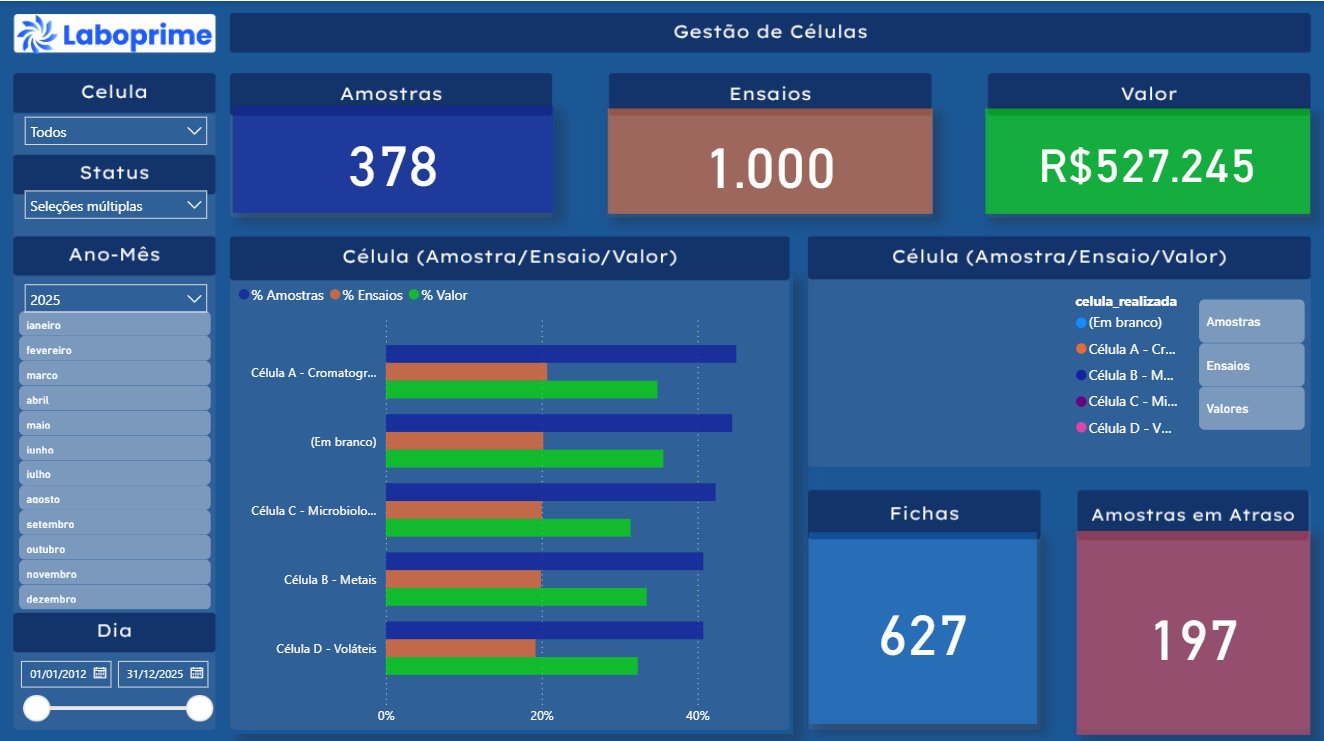

What the dashboard file says about the page in this screenshot:
{"tool":"powerbi","page":{"name":"Gestão Celulas","canvas":[1280,720],"ordinal":4},"visuals":[{"type":"slicer","fields":{"Values":["vw_bi_tecnico_operacional.status_amostra_macro"]},"box":[13.9,172.9,196.6,44.6],"z":0},{"type":"slicer","fields":{"Values":["dCalendario.Ano"]},"box":[13.9,263.5,196.6,44.6],"z":1000},{"type":"slicer","fields":{"Values":["vw_bi_tecnico_operacional.celula_realizada_nome"]},"box":[14.5,101.3,196.6,44.6],"z":3000},{"type":"card","fields":{"Values":["_Medidas.Total Amostras Recebidas"]},"box":[226.1,101.9,309.9,103.1],"z":4000},{"type":"card","fields":{"Values":["_Medidas.Qtd Total de Ensaios"]},"box":[587,103.2,313.7,101.8],"z":5000},{"type":"card","fields":{"Values":["_Medidas.Valor Total Amostras Recebidas (Funil)"]},"box":[952.3,103.2,313.7,101.8],"z":6000},{"type":"clusteredBarChart","fields":{"Category":["vw_bi_tecnico_operacional.celula_realizada_nome"],"Y":["_Medidas.% Amostras por Célula","_Medidas.% Ensaios por Célula","_Medidas.% Valor por Célula"]},"box":[225.9,263.5,541,444.8],"z":7000},{"type":"card","fields":{"Values":["_Medidas.Qtd Fichas (Filtrado)"]},"box":[781.5,512.3,220,184.6],"z":8000},{"type":"donutChart","fields":{"Category":["vw_bi_tecnico_operacional.celula_realizada_nome"],"Y":["_Medidas.Metrica Dinamica Rosca"]},"box":[782.2,263.5,370.9,177.1],"z":9000},{"type":"advancedSlicerVisual","fields":{"Values":["SeletorDeMetrica.Metricas"]},"box":[1152.9,263.5,112.9,177.6],"z":10000},{"type":"card","fields":{"Values":["_Medidas.Qtd Amostras em Atraso"]},"box":[1040.2,511.7,225.9,196.6],"z":11000},{"type":"slicer","fields":{"Values":["dCalendario.Date"]},"box":[13.7,632.1,196.8,71.6],"z":12000},{"type":"advancedSlicerVisual","fields":{"Values":["dCalendario.Mes"]},"box":[14.5,294.4,195,300],"z":12001}]}

Visuals, with their boxes in screenshot pixels (x1, y1, x2, y2), scaled from the page's 1280x720 canvas onto the 1324x741 screenshot:
slicer - vw_bi_tecnico_operacional.status_amostra_macro: <box>14,178,218,224</box>
slicer - dCalendario.Ano: <box>14,271,218,317</box>
slicer - vw_bi_tecnico_operacional.celula_realizada_nome: <box>15,104,218,150</box>
card - _Medidas.Total Amostras Recebidas: <box>234,105,554,211</box>
card - _Medidas.Qtd Total de Ensaios: <box>607,106,932,211</box>
card - _Medidas.Valor Total Amostras Recebidas (Funil): <box>985,106,1310,211</box>
clusteredBarChart - vw_bi_tecnico_operacional.celula_realizada_nome x _Medidas.% Amostras por Célula: <box>234,271,793,729</box>
card - _Medidas.Qtd Fichas (Filtrado): <box>808,527,1036,717</box>
donutChart - vw_bi_tecnico_operacional.celula_realizada_nome x _Medidas.Metrica Dinamica Rosca: <box>809,271,1193,453</box>
advancedSlicerVisual - SeletorDeMetrica.Metricas: <box>1193,271,1309,454</box>
card - _Medidas.Qtd Amostras em Atraso: <box>1076,527,1310,729</box>
slicer - dCalendario.Date: <box>14,651,218,724</box>
advancedSlicerVisual - dCalendario.Mes: <box>15,303,217,612</box>
